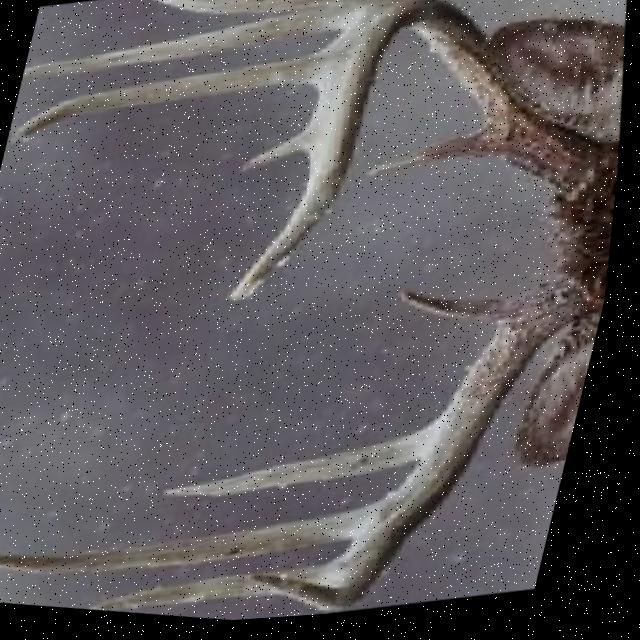L-F: (256, 284, 611, 616)
L-G1: (405, 294, 531, 328)
L-G2: (169, 430, 440, 503)
L-G3: (0, 505, 394, 576)
R-F: (229, 0, 615, 304)
R-G1: (366, 128, 511, 184)
R-G2: (152, 0, 400, 18)
R-G3: (24, 6, 366, 80)
R-G4: (16, 50, 331, 139)
R-G5: (240, 130, 312, 176)
